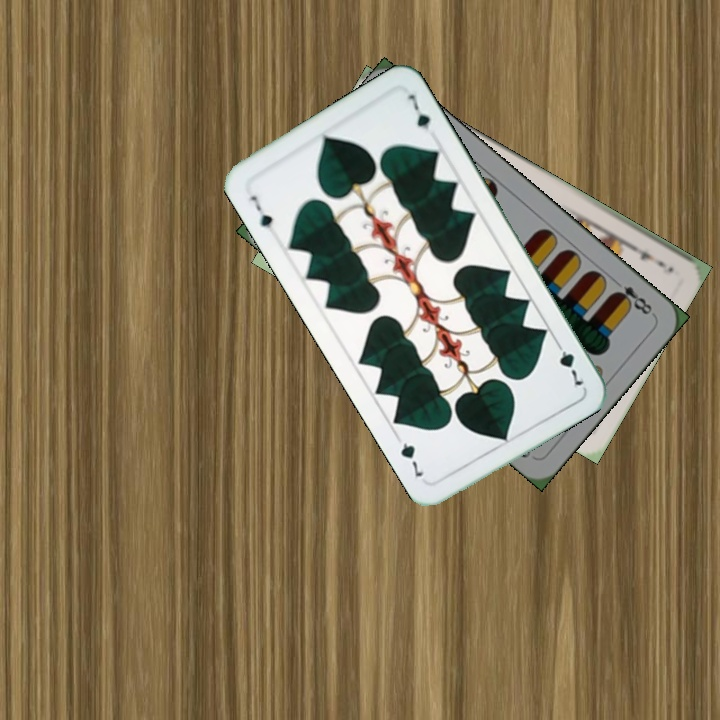E7: (624, 239, 669, 270)
E8: (609, 274, 657, 318)
G7: (550, 336, 587, 391), (246, 191, 280, 238)
